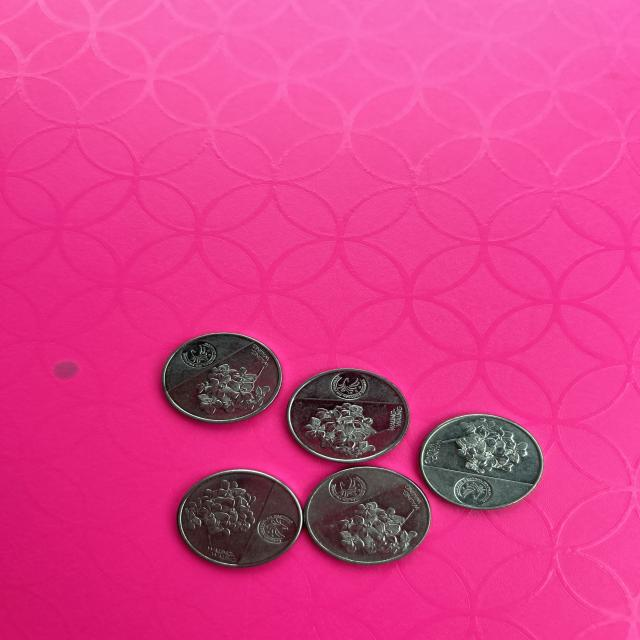1_New_Back: (322, 499, 420, 562), (300, 400, 387, 455), (186, 477, 256, 545), (184, 362, 267, 419), (449, 419, 522, 477)
